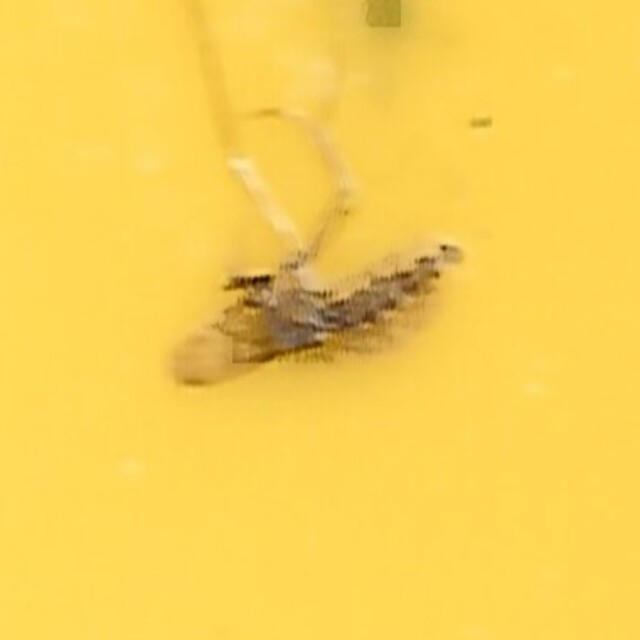Nematocera: (168, 227, 472, 413)
